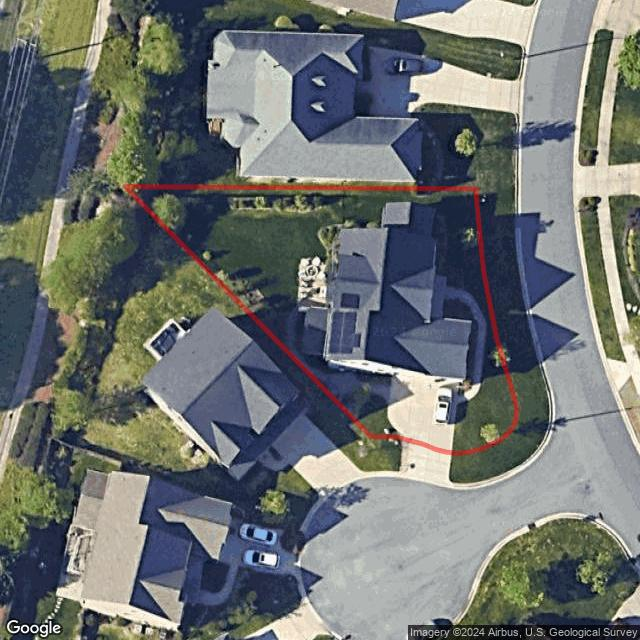Driveway: (387, 374, 459, 454)
Extra-Driveway: (399, 434, 452, 489)
Extra-Lawn: (451, 188, 549, 483), (369, 437, 402, 471)
House: (300, 200, 474, 380)
Lawn: (125, 186, 518, 454)
Other: (284, 307, 392, 405), (210, 271, 288, 348), (137, 196, 329, 211), (317, 220, 383, 259), (432, 214, 464, 289), (296, 257, 338, 312)
Sidewalk: (431, 275, 488, 406)
